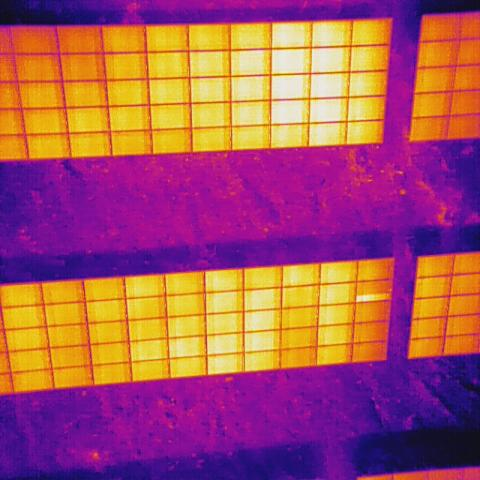fault: (356, 292, 391, 302)
